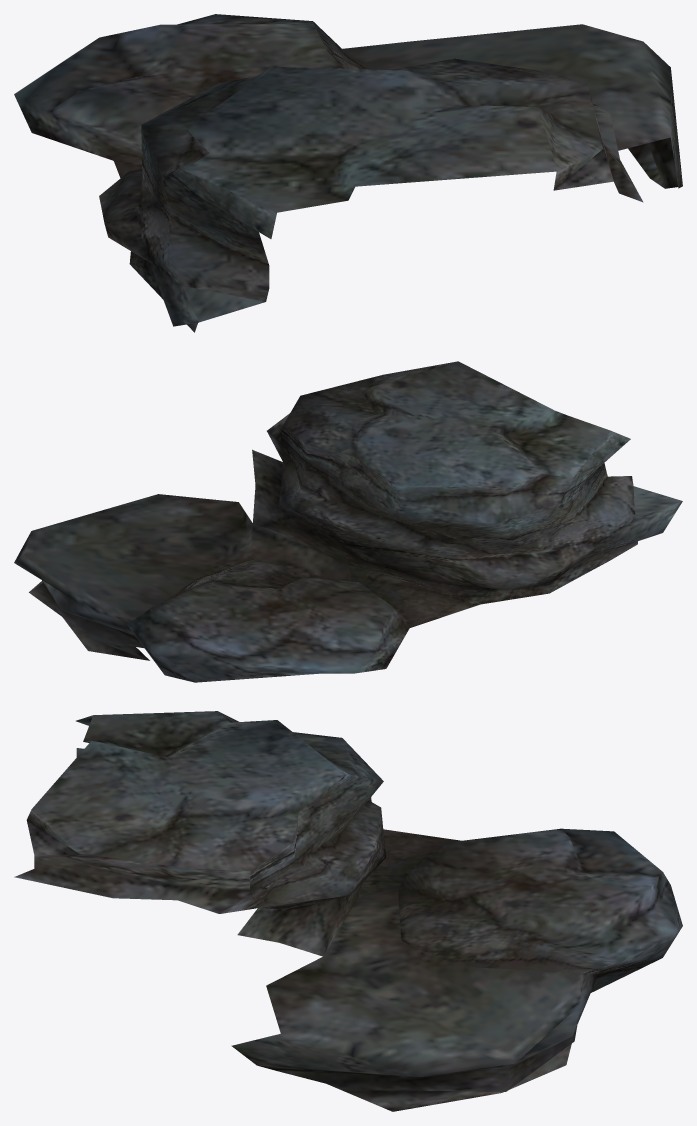
Rendered from S_Rock_Yellow034_H47.FBX.
3 renders of one model, top to bottom at view 1: azimuth 30°, elevation 25°; view 2: azimuth 150°, elevation 25°; view 3: azimuth 270°, elevation 25°, orthographic. The views are drawn at different scales.
Parts seen in each view (by area): view 1: S_Rock_Yellow034_H47; view 2: S_Rock_Yellow034_H47; view 3: S_Rock_Yellow034_H47.
Part boxes in pixels (box(x1,y1,x2,y2)): S_Rock_Yellow034_H47: box(14, 14, 682, 332); S_Rock_Yellow034_H47: box(14, 361, 682, 682); S_Rock_Yellow034_H47: box(14, 711, 682, 1111).
Size of the model in its own units: 943 by 952 by 283.
1 material, 1 textured.
